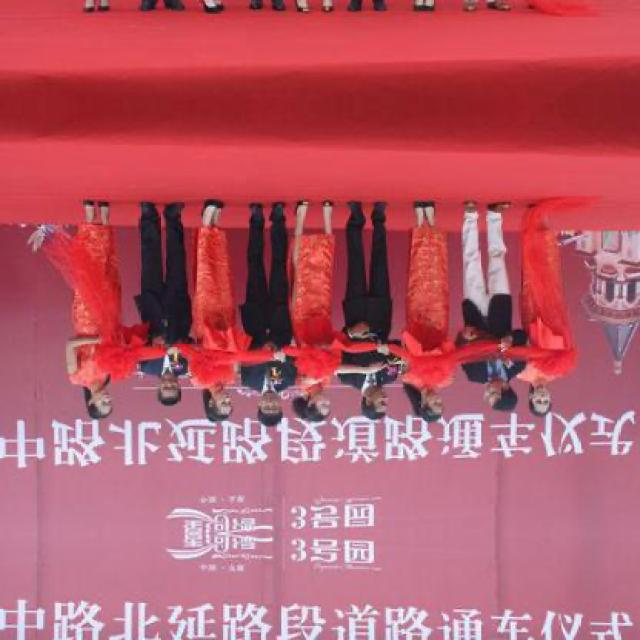sin casco: (497, 362, 585, 431), (231, 392, 308, 444), (182, 386, 254, 439), (347, 385, 417, 437), (466, 364, 520, 419), (389, 393, 448, 441), (134, 374, 192, 414), (289, 385, 329, 443), (78, 371, 113, 427)
